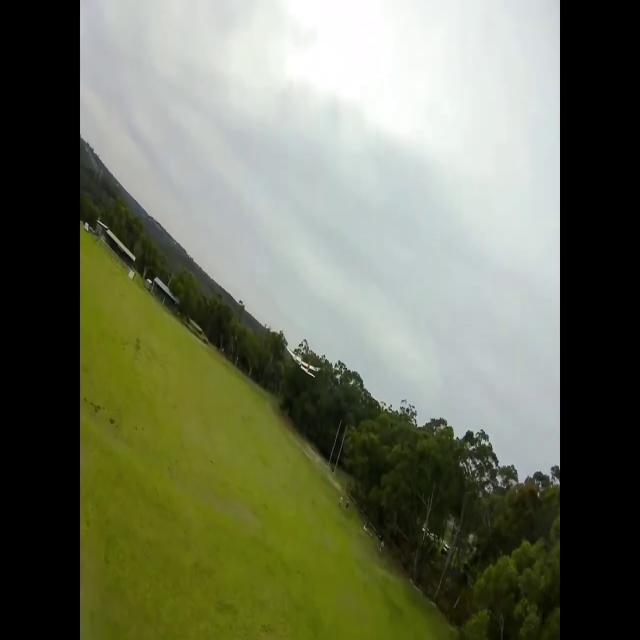iha: (282, 340, 321, 378)
